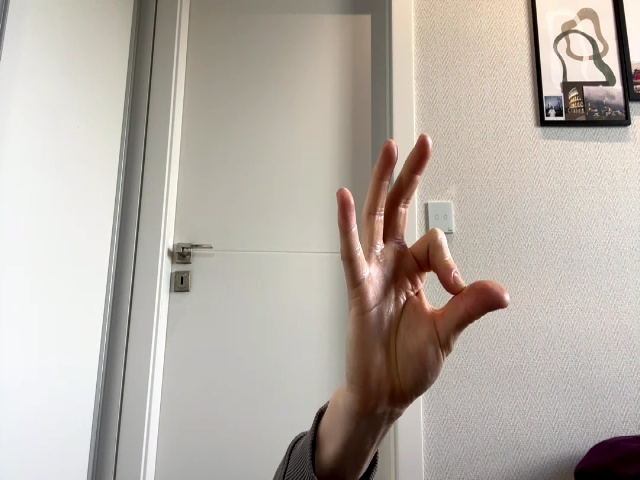S: (335, 134, 510, 404)
